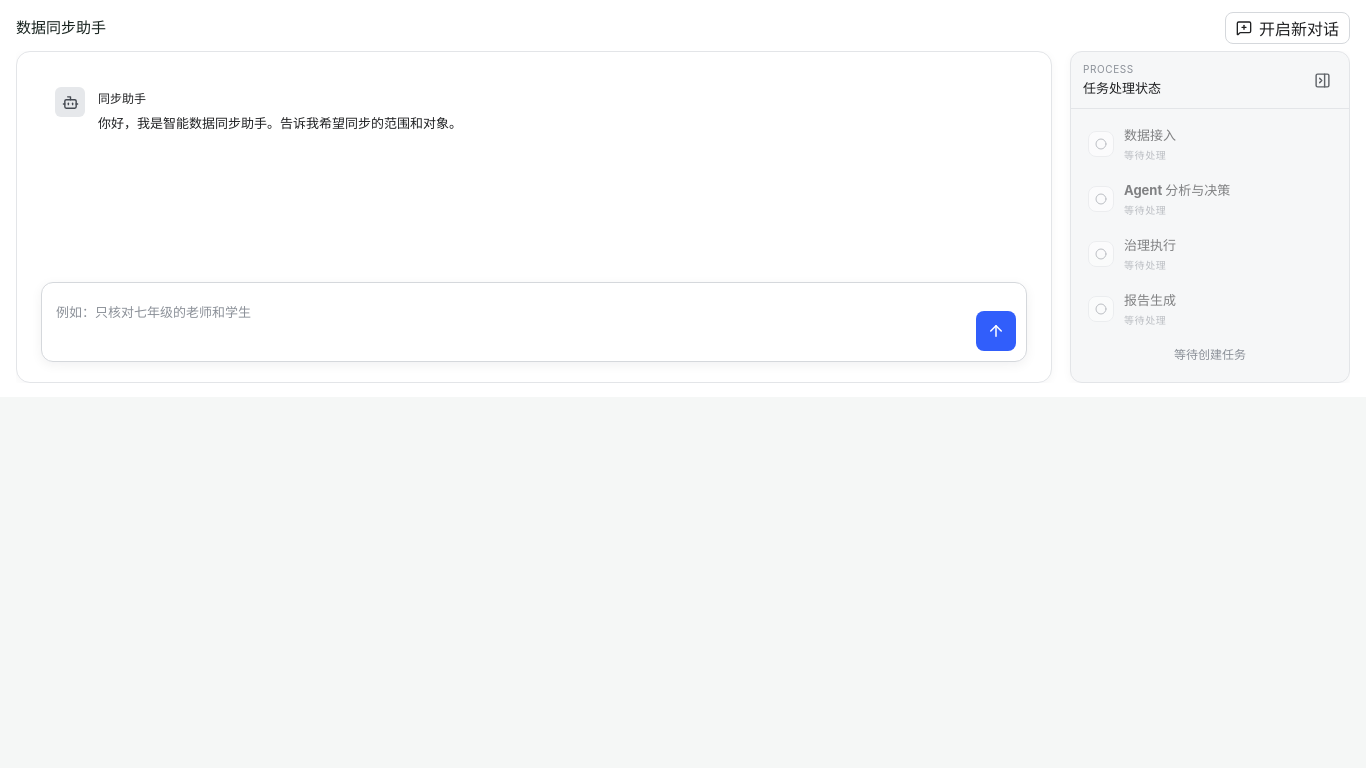
Test: backend Agent conversation › shows a new assistant reply immediately when reduced motion is preferred
Type "同步全校教师" into the text box named "对账目标" at (512, 322), box [56,293,968,351]
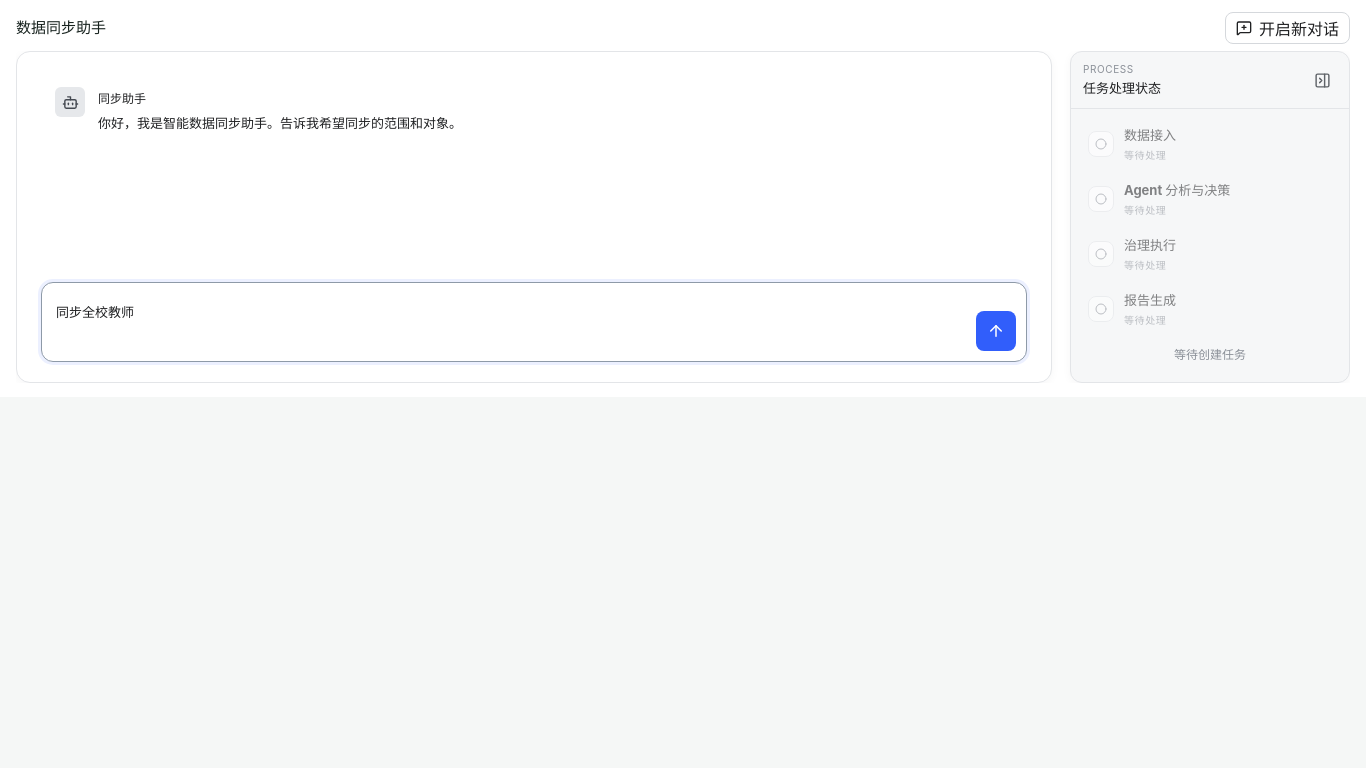
Click the button named "发送" at (996, 331), box [976,311,1016,351]
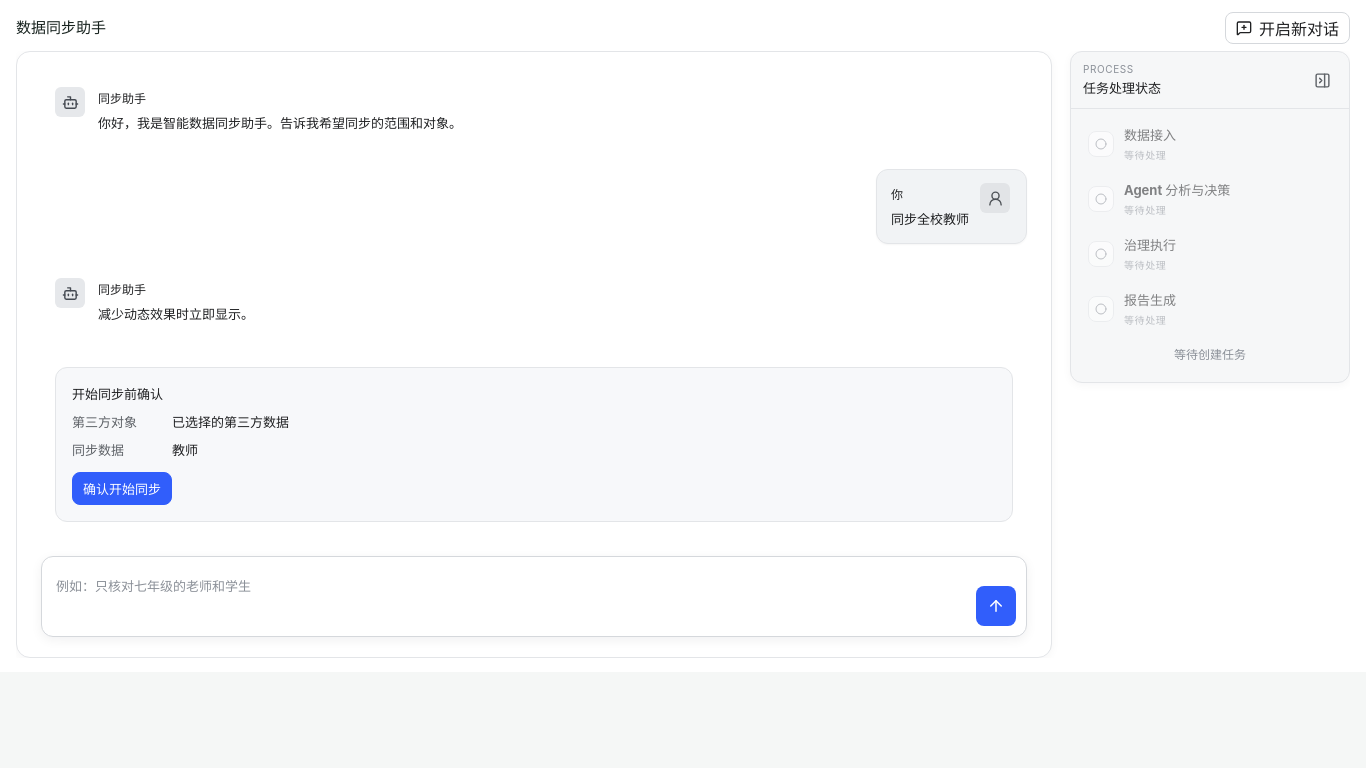
Expected: the text box named "对账目标" is enabled, [56,567,968,626]
Expected: the element named "开始确认" is shown, [55,367,1013,522]
